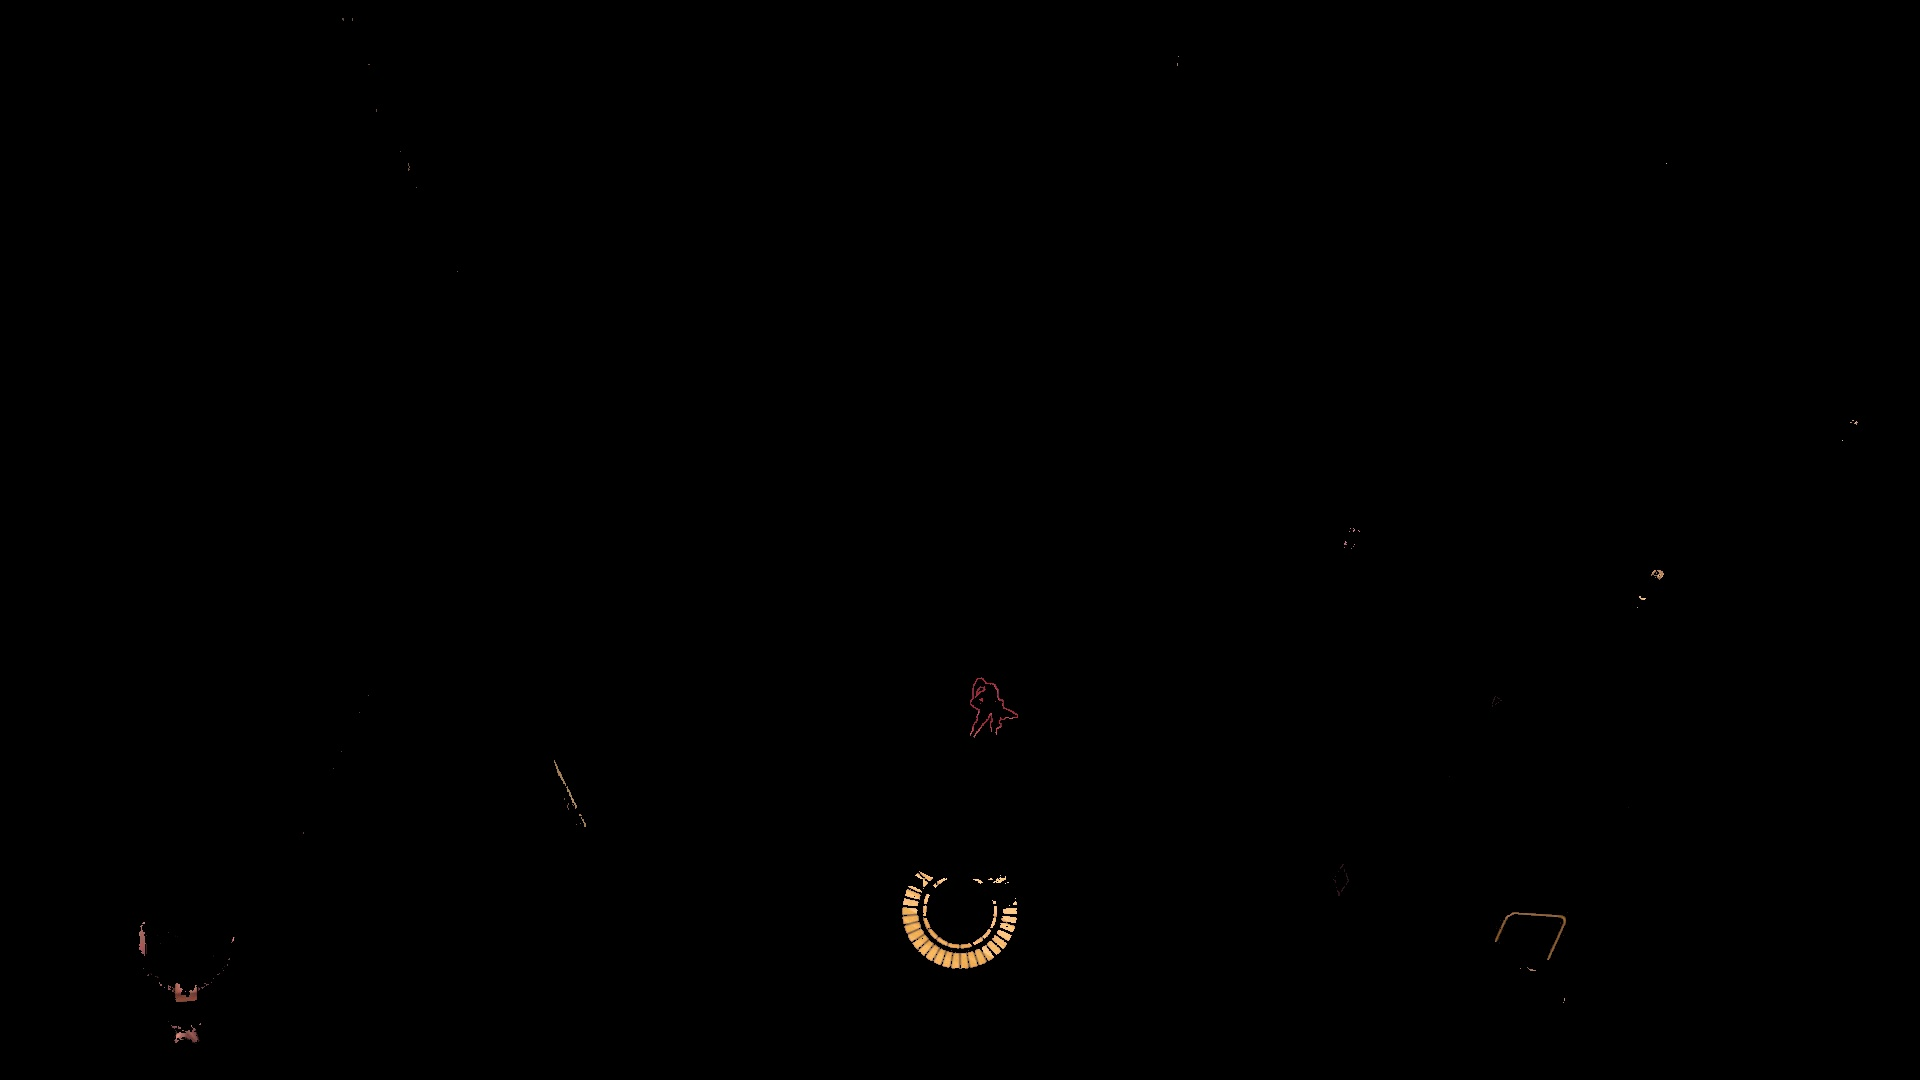widowmaker: (972, 680, 1004, 745)
